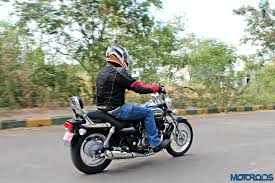helmet: (103, 43, 134, 71)
